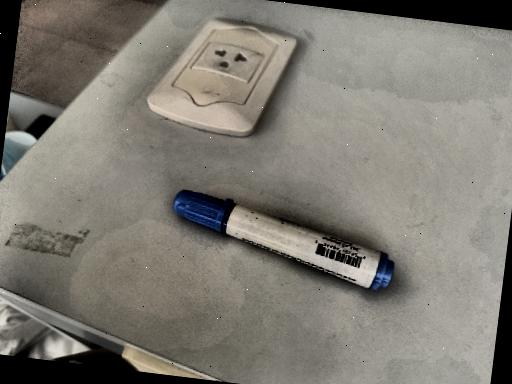marcador azul: (174, 190, 393, 289)
